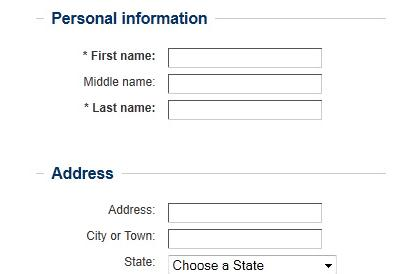field: (168, 254, 341, 274), (166, 73, 323, 95), (167, 99, 324, 121), (167, 228, 324, 250), (167, 202, 325, 223), (167, 47, 324, 68)
field_with_label: (81, 71, 327, 96), (87, 227, 326, 252), (92, 98, 326, 123), (90, 46, 327, 70), (107, 201, 327, 224), (125, 253, 344, 274)
